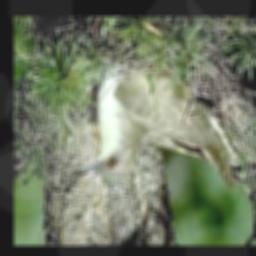Cuckoo: (70, 65, 233, 190)
